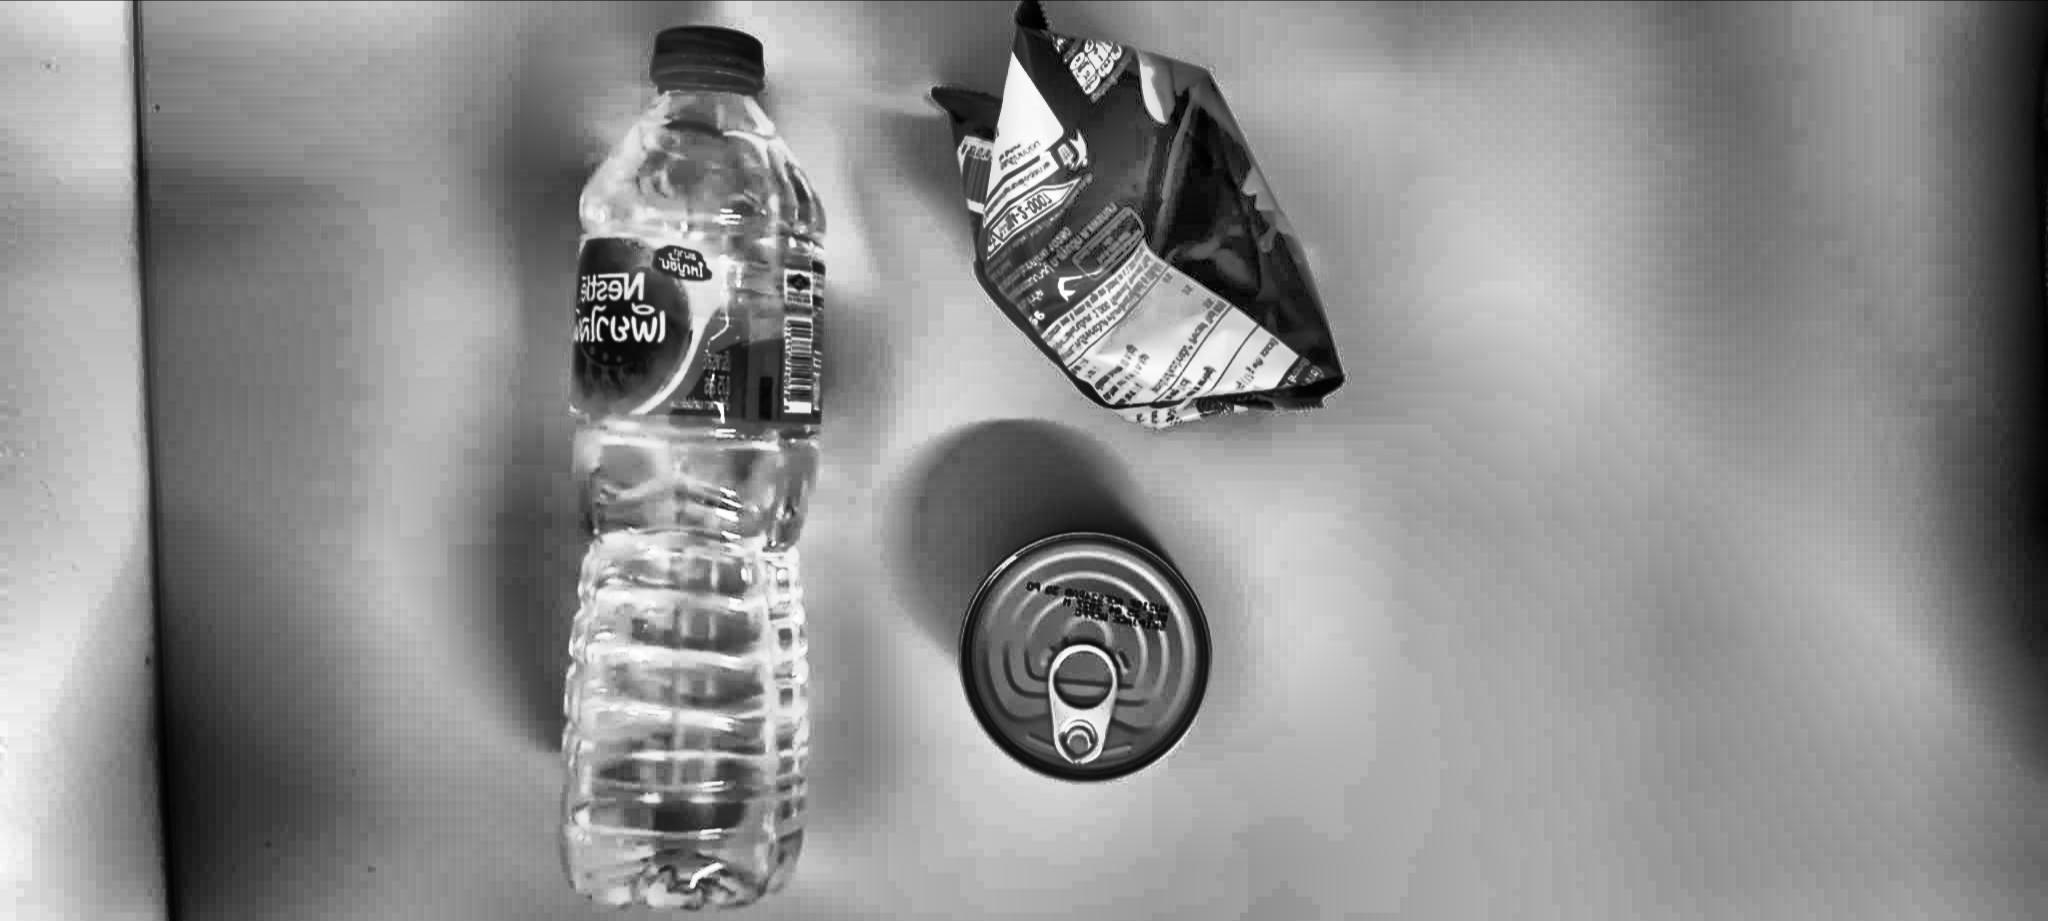can: (952, 512, 1230, 790)
snackbag: (916, 5, 1364, 450)
waterbottle: (454, 13, 860, 916)
